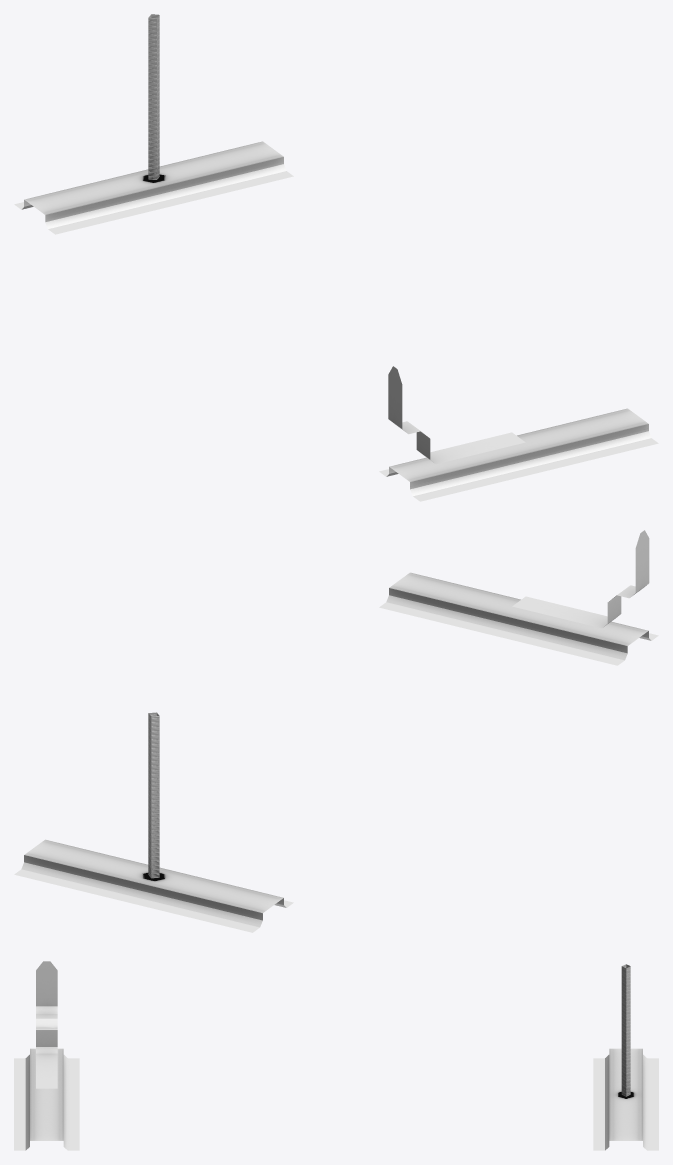
The model's file is prop_LOD.fbx.
The picture shows the model from 3 angles, top to bottom: view 1: azimuth 30°, elevation 25°; view 2: azimuth 150°, elevation 25°; view 3: azimuth 270°, elevation 25°; orthographic projection. The views are drawn at different scales.
Visible parts, largest first — view 1: HOOK_LOD; view 2: HOOK_LOD; view 3: HOOK_LOD.
Part boxes in pixels (x1,y1,x2,y2): HOOK_LOD: (14, 14, 658, 501); HOOK_LOD: (14, 530, 658, 932); HOOK_LOD: (14, 961, 658, 1150).
Size of the model in its own units: 346 by 237 by 1002.
1 material, 1 textured.
